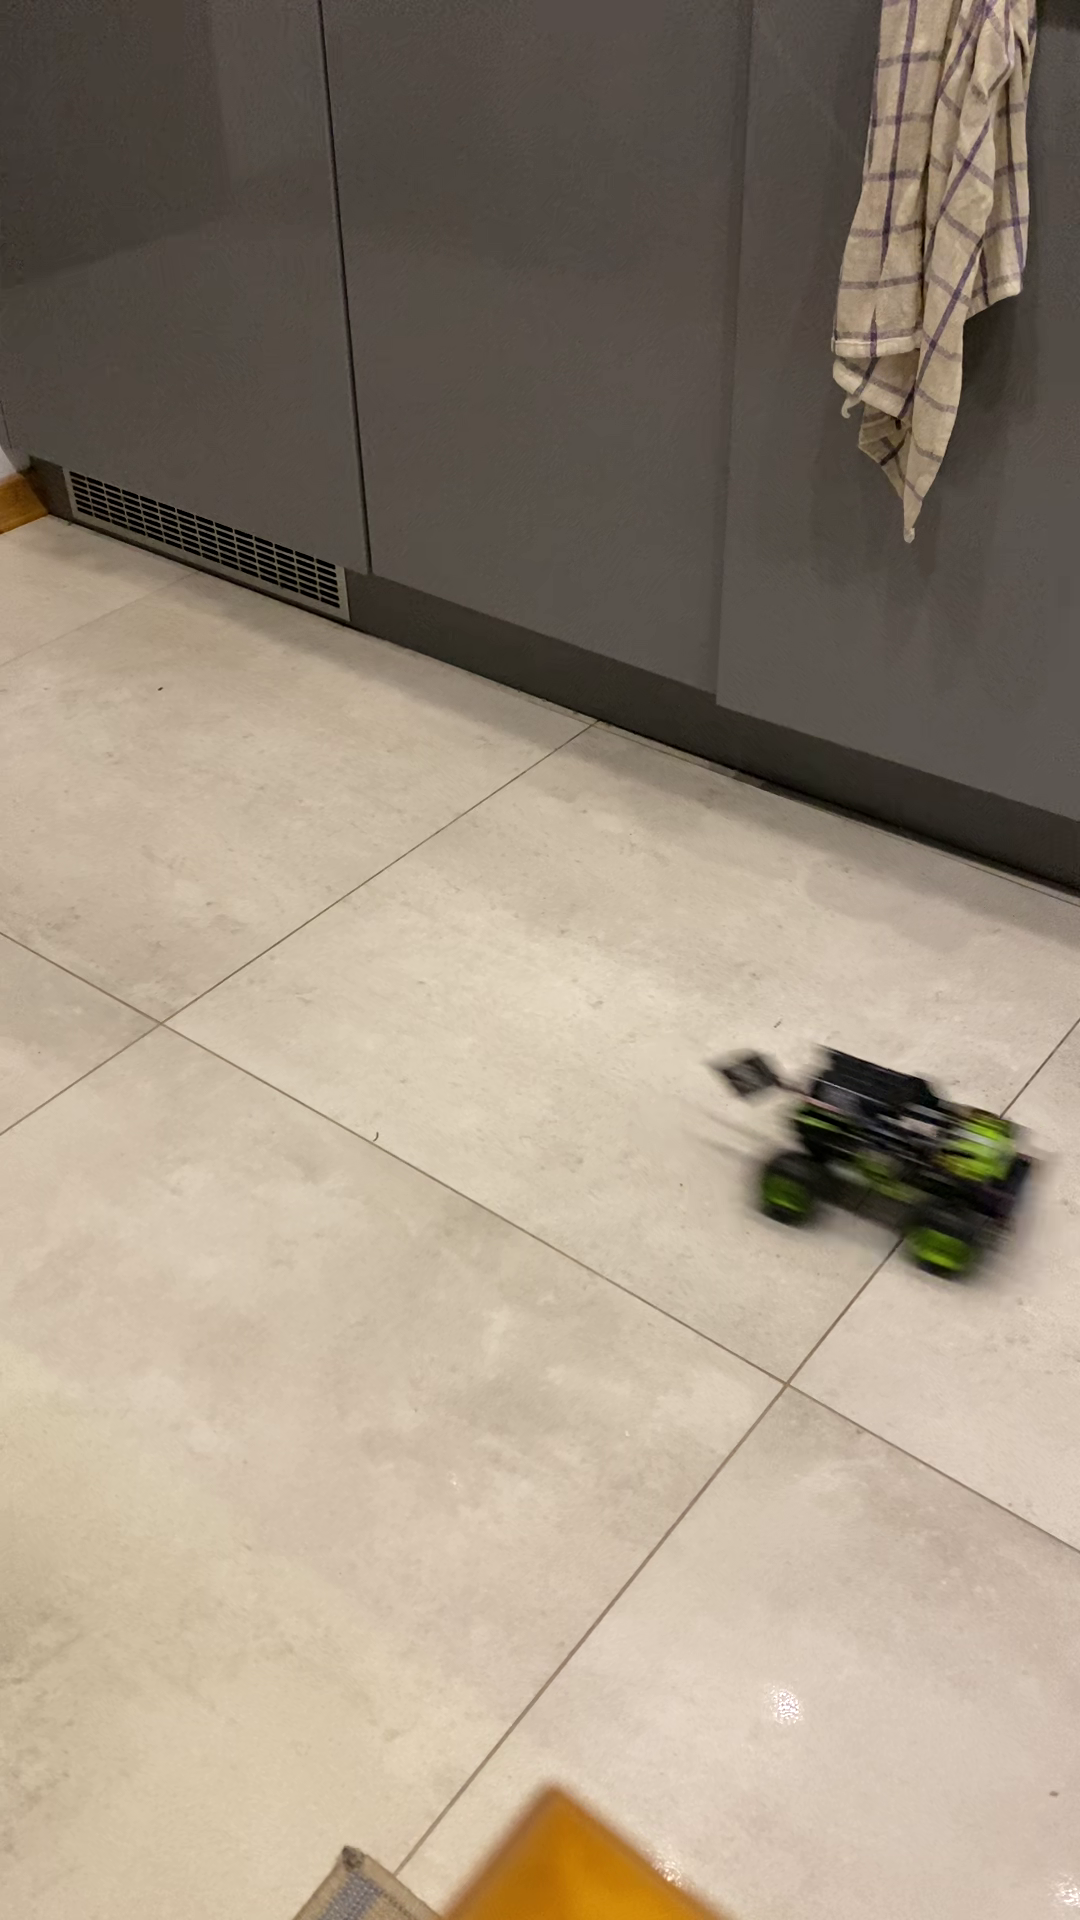car: (756, 1044, 1022, 1284)
